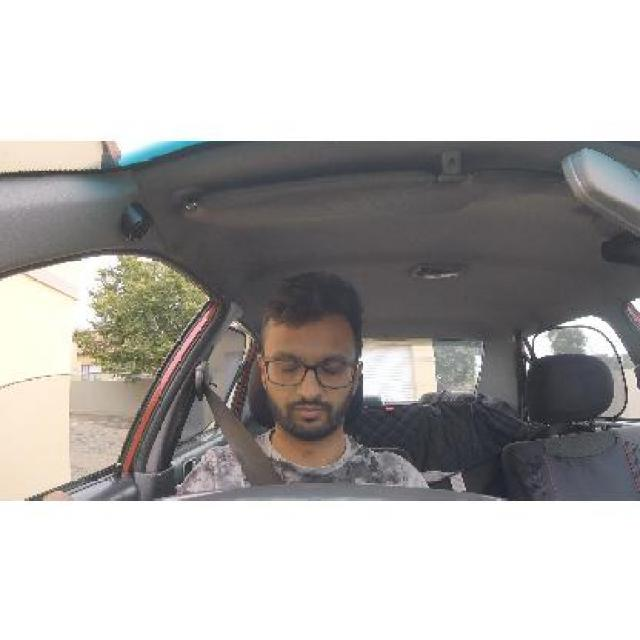drowsy: (252, 295, 369, 437)
